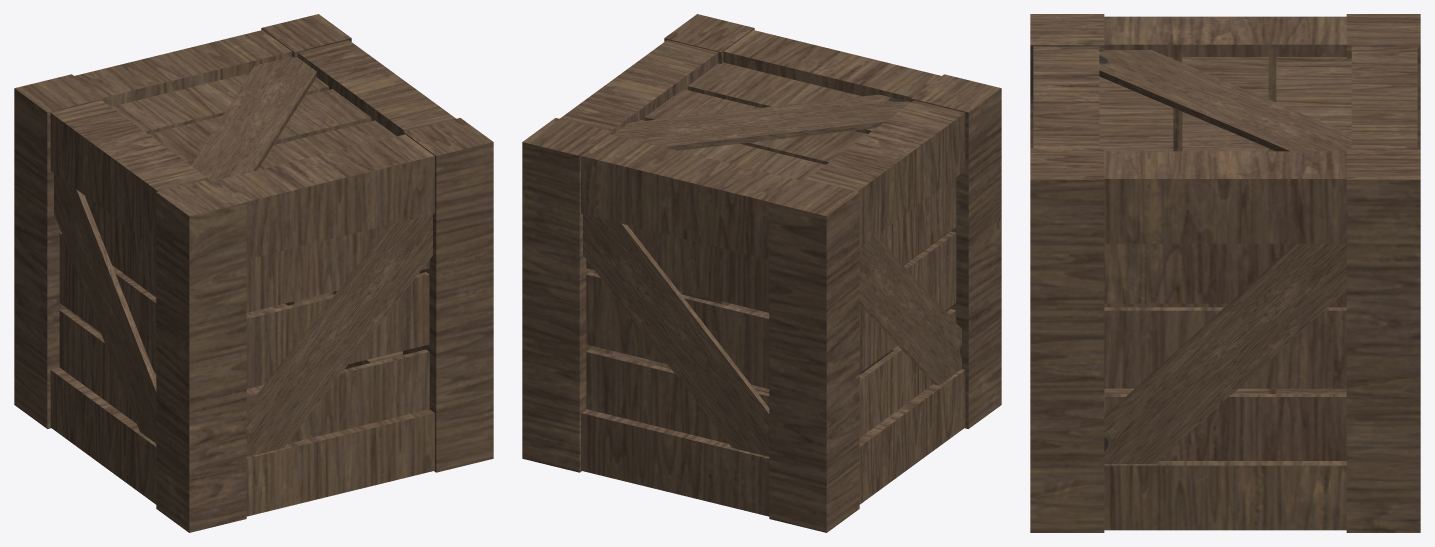
The model's file is WoodenBoxC.fbx.
The picture shows the model from 3 angles, left to right: view 1: azimuth 30°, elevation 25°; view 2: azimuth 150°, elevation 25°; view 3: azimuth 270°, elevation 25°; orthographic projection. The views are drawn at different scales.
Parts seen in each view (by area): view 1: 立方体.006; view 2: 立方体.006; view 3: 立方体.006.
Boxes of the visible parts, x1,y1,x2,y2 form: 立方体.006: (14,14,493,532); 立方体.006: (522,14,1001,532); 立方体.006: (1030,14,1420,532).
Bounding box in the file's own units: 167 × 166 × 166.
